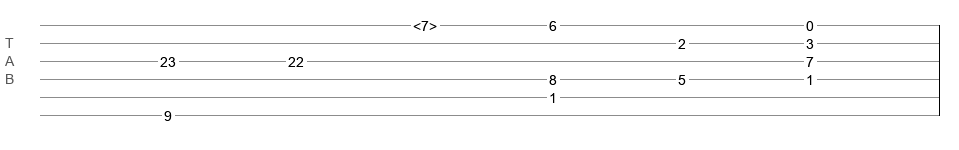0: (806, 18, 814, 28)
1: (549, 90, 557, 100), (806, 72, 814, 82)
2: (678, 36, 686, 46)
22: (288, 54, 304, 64)
23: (160, 54, 176, 64)
3: (806, 36, 814, 46)
5: (678, 72, 686, 82)
6: (549, 18, 557, 28)
7: (806, 54, 814, 64)
8: (549, 72, 557, 82)
9: (164, 108, 172, 118)
harmonic: (413, 18, 437, 28)
